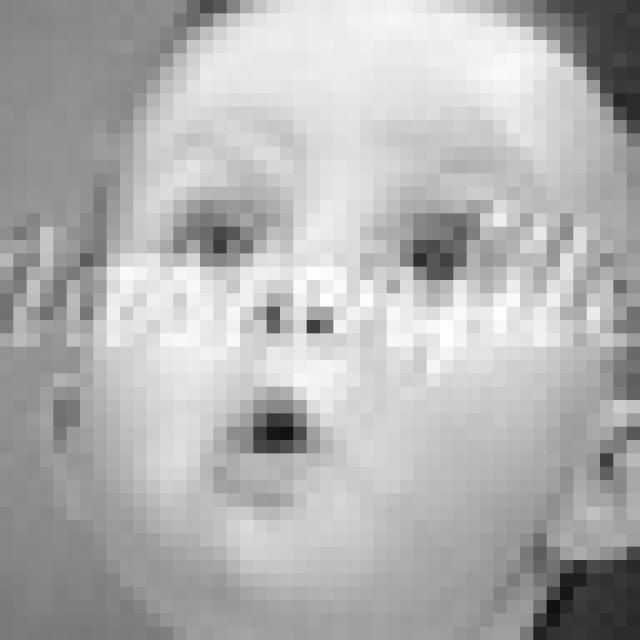surprise: (147, 132, 530, 516)
